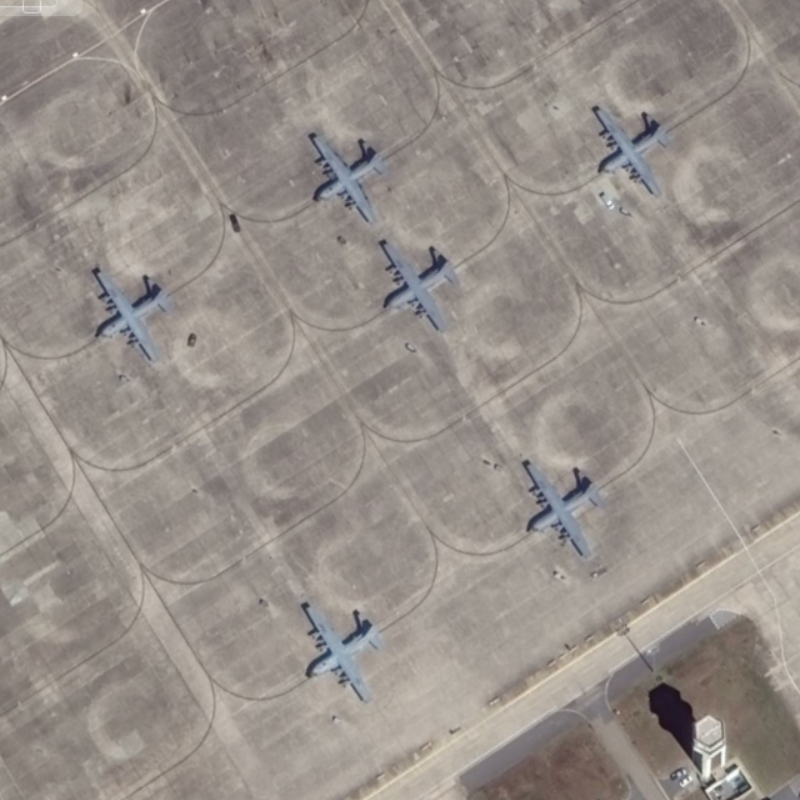A2: (300, 594, 387, 707), (517, 454, 607, 562), (87, 261, 179, 363), (373, 236, 462, 338), (304, 126, 393, 227), (587, 103, 676, 203)
